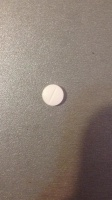Parol: (41, 83, 66, 107)
